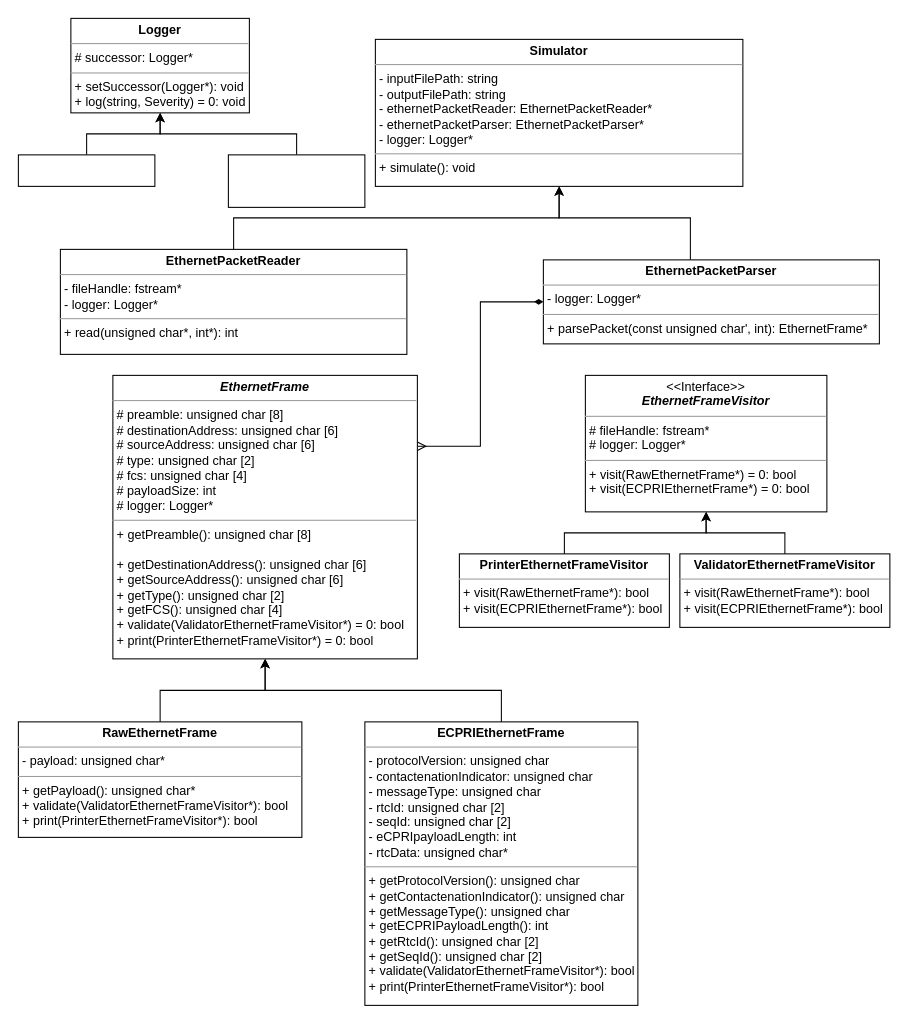
This 908x1024 diagram has some shape labels left out. Here are the shapes that lost their labels. From the top down, the centre of each, then its label:
At point (86, 170): "ConsoleLogger".
At point (296, 180): "FileLogger - filename: string".
